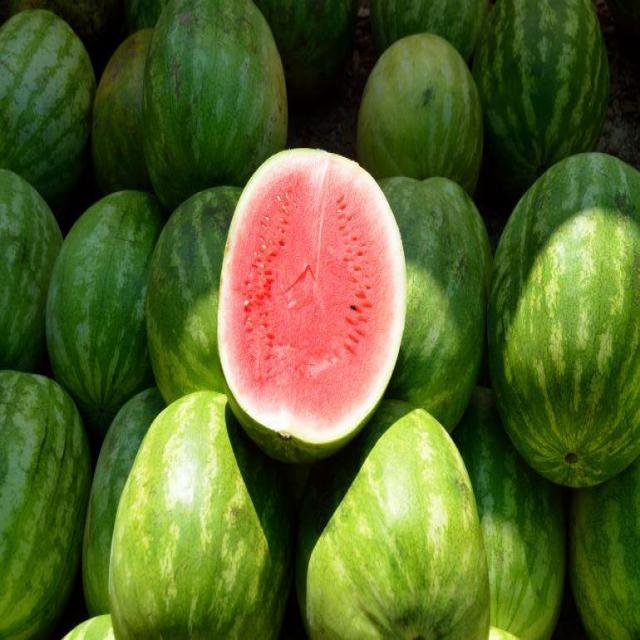watermelon: (219, 132, 407, 460), (481, 149, 640, 492), (280, 391, 496, 640), (101, 382, 289, 640), (139, 0, 292, 212), (40, 181, 164, 415), (0, 370, 92, 640), (468, 0, 612, 163), (149, 181, 247, 420), (352, 27, 482, 192), (0, 15, 92, 187), (0, 163, 71, 377), (572, 463, 640, 639), (95, 11, 152, 183)
